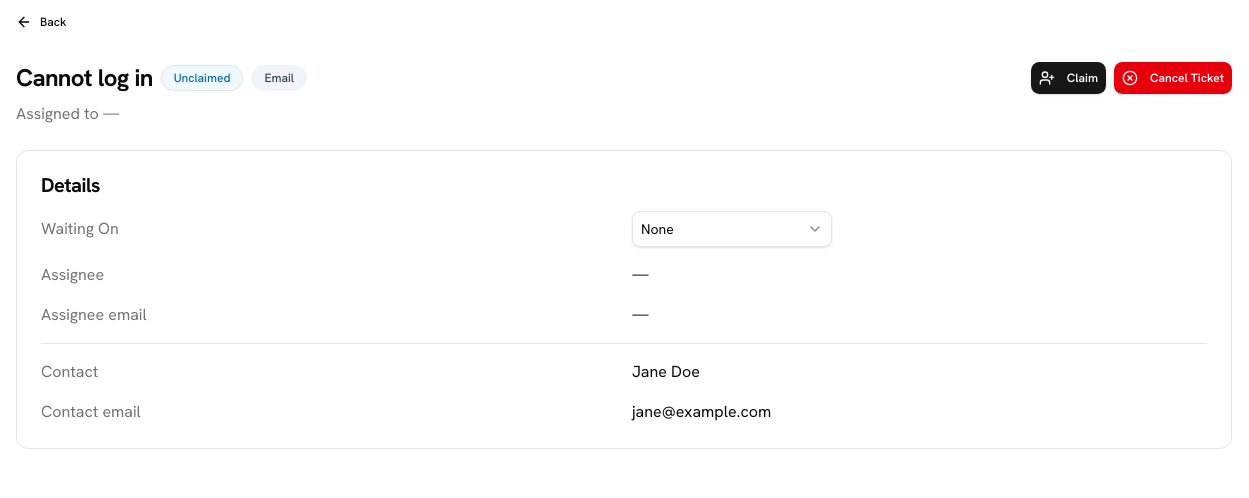
TicketDetailPage › surfaces the real backend error when a claim is rejected
Step 1. Click the button "Claim" → (1068, 78), box [1031,62,1106,94]
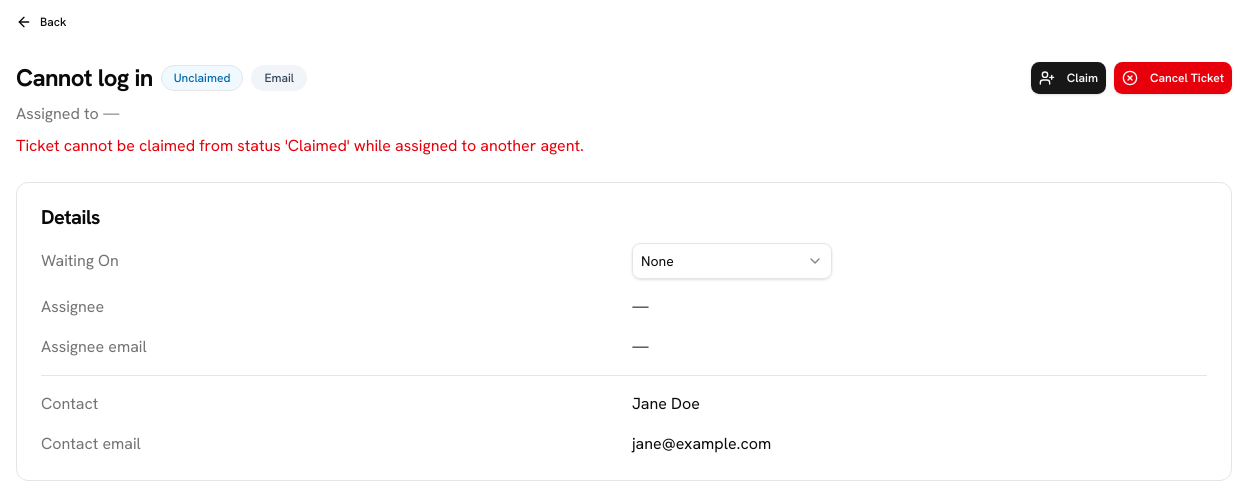
Check: the text "Ticket cannot be claimed from status 'Claimed' while assigned to another agent." is shown, box [16,135,584,156]
